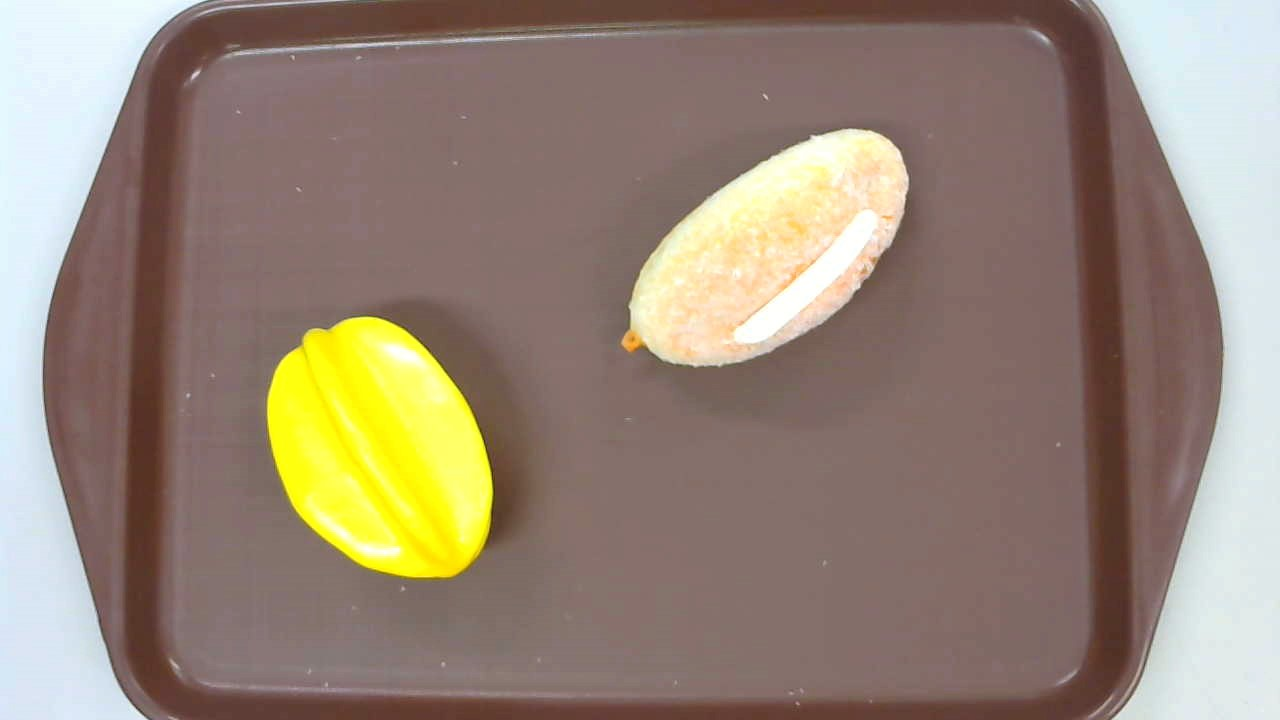coconut: (620, 127, 911, 368)
star fruit: (266, 316, 493, 580)
